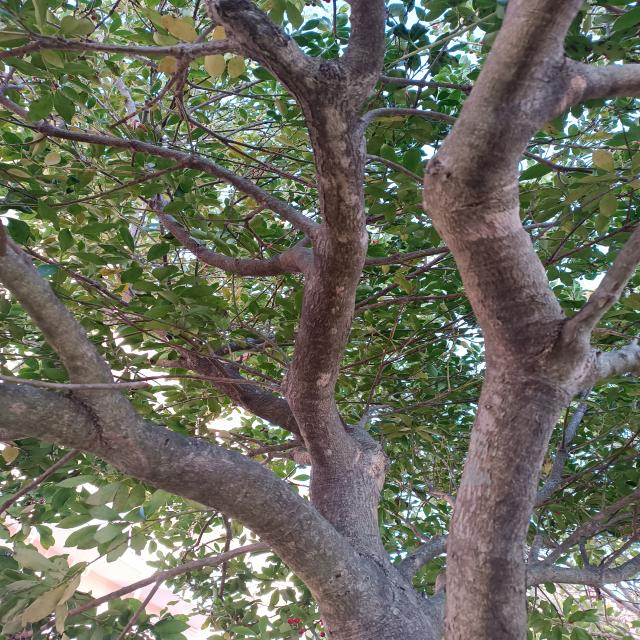Branch: (0, 371, 377, 620), (2, 94, 322, 241), (283, 57, 369, 475), (0, 238, 138, 423), (150, 194, 313, 276), (197, 3, 321, 98), (469, 0, 588, 88), (178, 350, 296, 433), (345, 0, 387, 98), (570, 59, 640, 109)
Twig: (63, 297, 280, 385), (362, 108, 593, 173), (11, 115, 150, 203), (79, 277, 211, 356), (561, 219, 640, 350), (0, 162, 186, 206), (0, 38, 240, 61), (67, 197, 244, 222), (122, 374, 282, 393), (1, 373, 146, 389), (243, 207, 281, 255), (380, 75, 472, 90)
